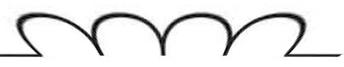inductor: (11, 4, 313, 63)
